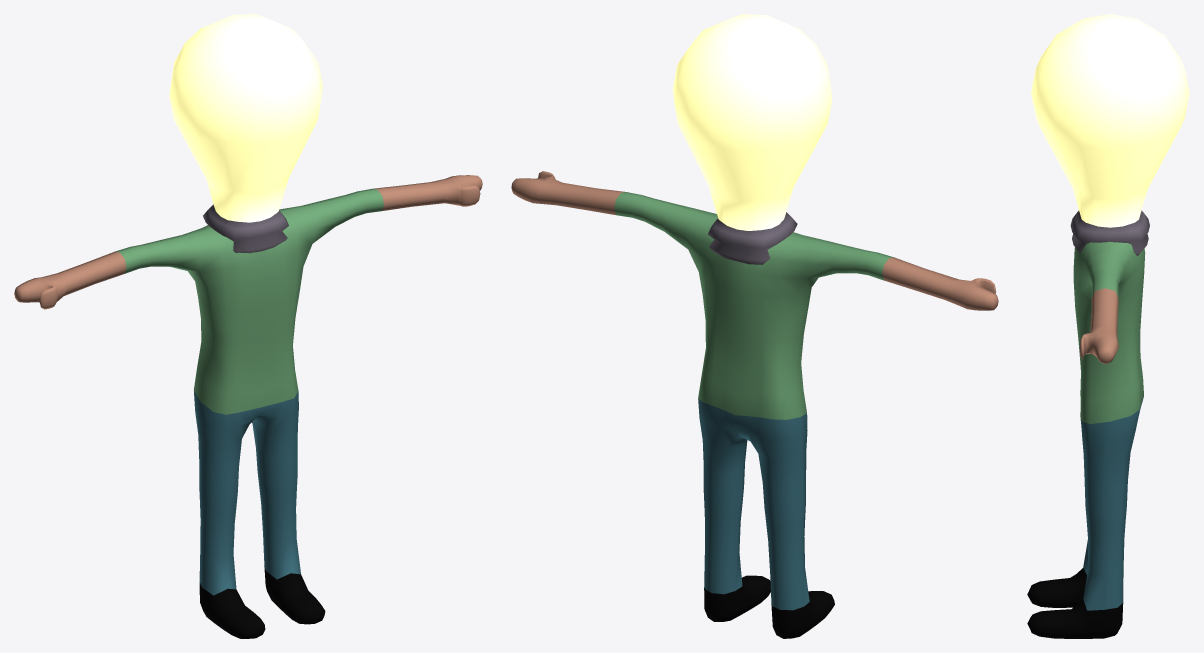
The model's file is lightbulbMan.fbx.
3 renders of one model, left to right at view 1: azimuth 30°, elevation 25°; view 2: azimuth 150°, elevation 25°; view 3: azimuth 270°, elevation 25°, orthographic. The views are drawn at different scales.
Parts seen in each view (by area): view 1: Roundcube; view 2: Roundcube; view 3: Roundcube.
Part boxes in pixels (<box>): Roundcube: <box>14,14,482,638</box>; Roundcube: <box>511,14,998,638</box>; Roundcube: <box>1027,14,1189,638</box>.
Bounding box in the file's own units: 860 × 1039 × 255.
